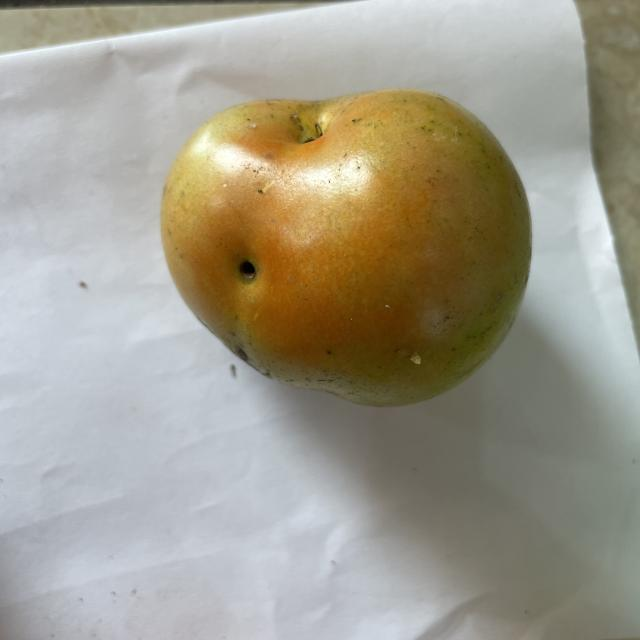fruitworm_bore: (225, 251, 270, 291)
